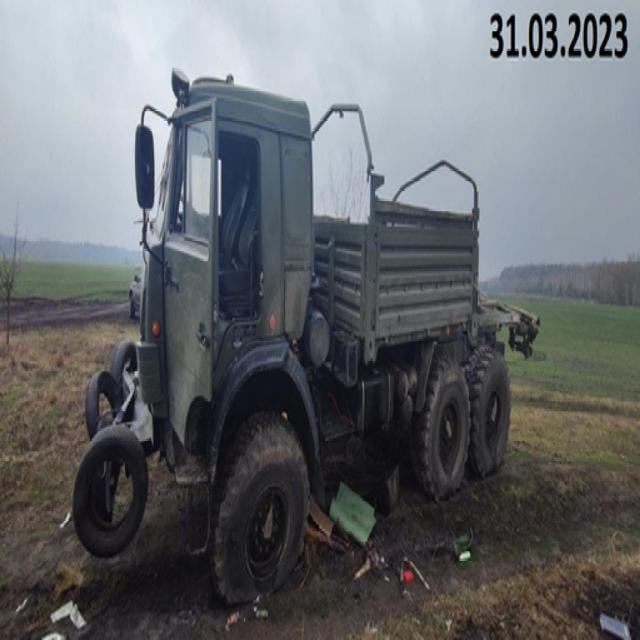TRUCK: (123, 58, 538, 584)
